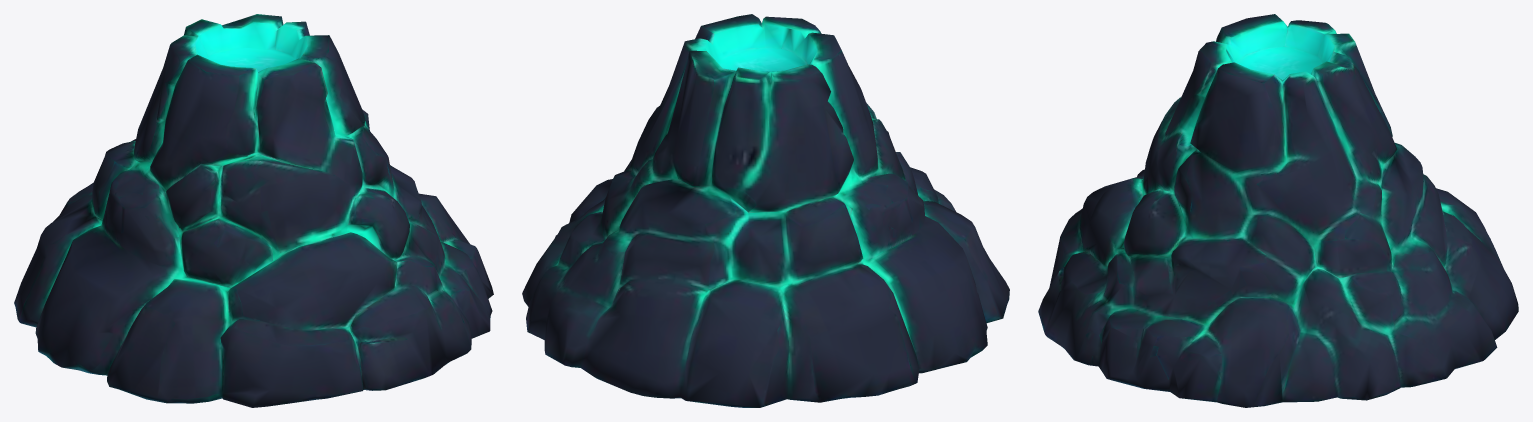
Rendered from tile_volcan.glb.
3 views of the same model, side by side, from view 1: azimuth 30°, elevation 25°; view 2: azimuth 150°, elevation 25°; view 3: azimuth 270°, elevation 25° (orthographic).
Parts seen in each view (by area): view 1: node_0; view 2: node_0; view 3: node_0.
Boxes of the visible parts, <box> form: node_0: <box>14,14,493,407</box>; node_0: <box>522,14,1009,407</box>; node_0: <box>1038,14,1518,407</box>.
Bounding box in the file's own units: 1.02 × 0.6106 × 1.01.
Materials: 1 (1 with a texture image).
